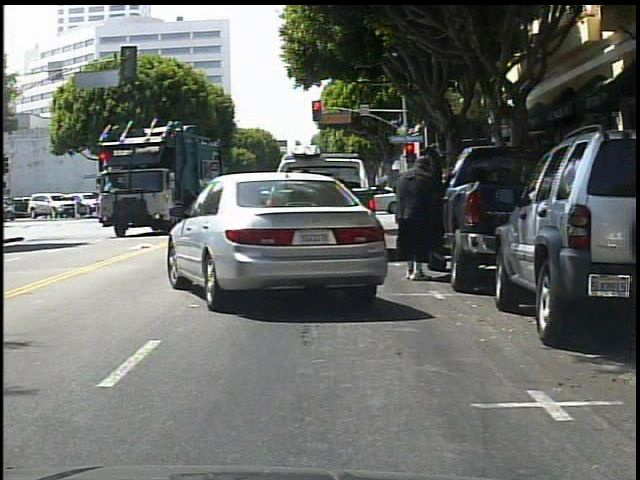person: (397, 152, 440, 287)
